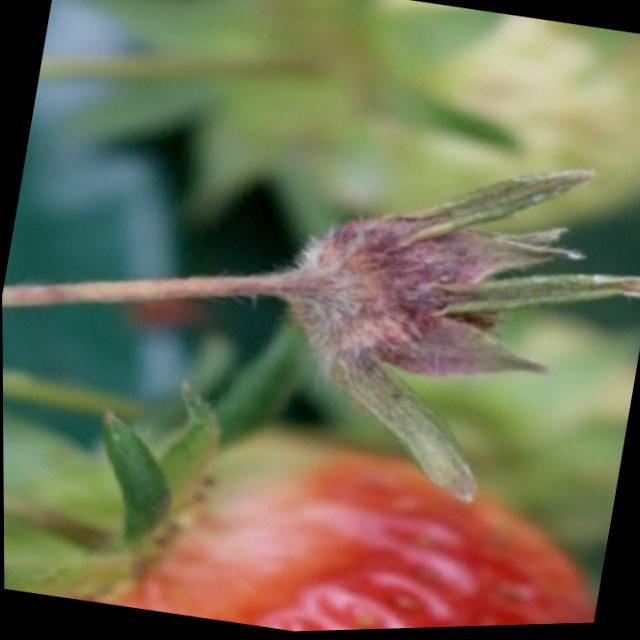Gray Mold: (265, 171, 640, 504)
